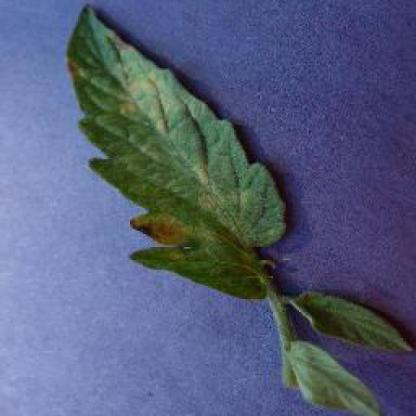Tomato_Leaf_Mold: (70, 2, 288, 300)
